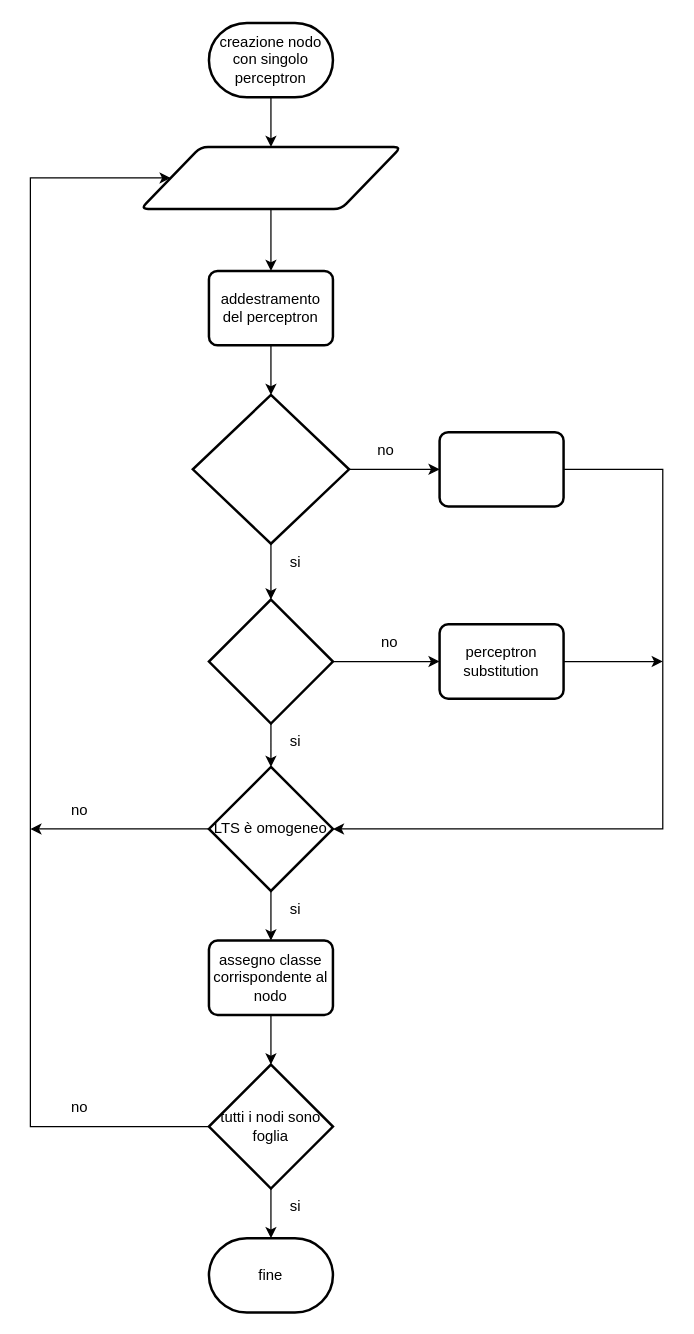
Some shapes in this 694 by 1334 pixel diagram are drawn without their labels. The shapes that lost their labels are listed below. From the top down, each one's box as (x1, y1, x2, y2) in pixels, then its label:
(139, 145, 402, 210): TS/LTS come input al nodo
(191, 393, 350, 544): perceptron divide il LTS in m gruppi
(438, 430, 564, 507): aggiungo nodo di split
(207, 598, 334, 724): perceptron è bilanciato
